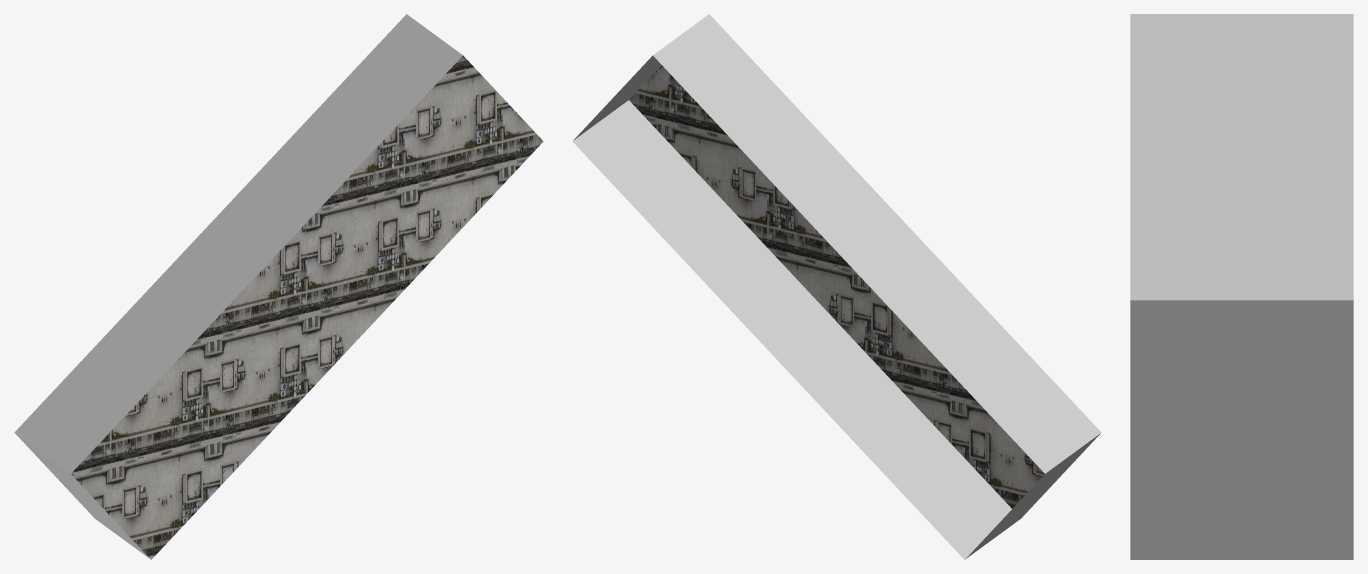
File: geospecific_94.obj
3 views of the same model, side by side, from view 1: azimuth 30°, elevation 25°; view 2: azimuth 150°, elevation 25°; view 3: azimuth 270°, elevation 25° (orthographic). The views are drawn at different scales.
Visible parts, largest first — view 1: Building; view 2: Building; view 3: Building.
Boxes of the visible parts, <box> form: Building: <box>14,14,543,559</box>; Building: <box>572,14,1101,559</box>; Building: <box>1130,14,1353,559</box>.
Bounding box in the file's own units: 14.48 × 12.54 × 3.
